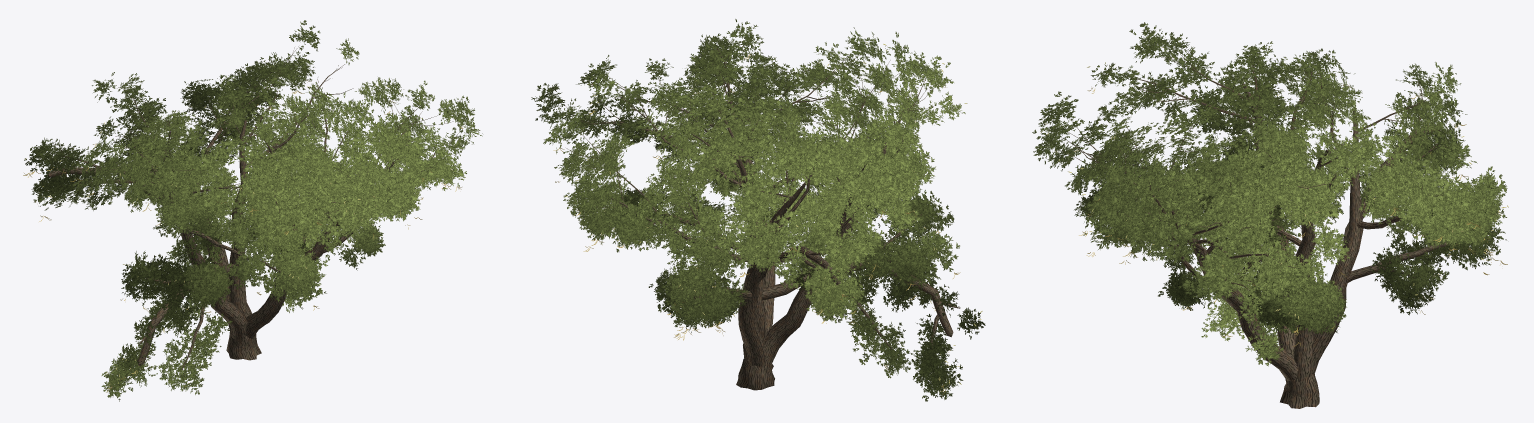
File: old-c.lod0.glb
The picture shows the model from 3 angles, left to right: view 1: azimuth 30°, elevation 25°; view 2: azimuth 150°, elevation 25°; view 3: azimuth 270°, elevation 25°; orthographic projection. The views are drawn at different scales.
Visible parts, largest first — view 1: foliage, bark, fruit; view 2: foliage, bark, fruit; view 3: foliage, bark, fruit.
Part boxes in pixels (bbox=[...]): foliage: bbox=[24, 20, 482, 401]; bark: bbox=[47, 46, 458, 369]; fruit: bbox=[23, 79, 463, 389]; foliage: bbox=[531, 19, 985, 401]; bark: bbox=[564, 43, 960, 390]; fruit: bbox=[553, 46, 960, 394]; foliage: bbox=[1032, 22, 1507, 366]; bark: bbox=[1061, 47, 1451, 408]; fruit: bbox=[1074, 84, 1507, 346].
Bounding box in the file's own units: 14.71 × 10 × 13.7.
5 materials, 2 textured.
